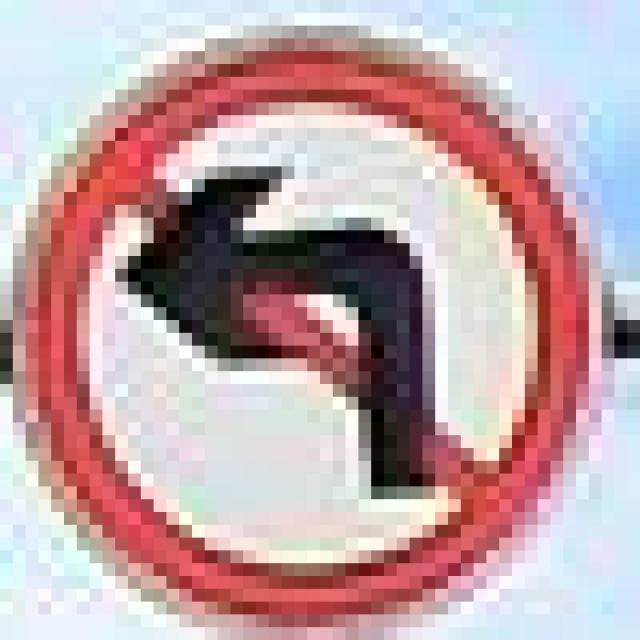left turn prohibited: (40, 44, 578, 609)
